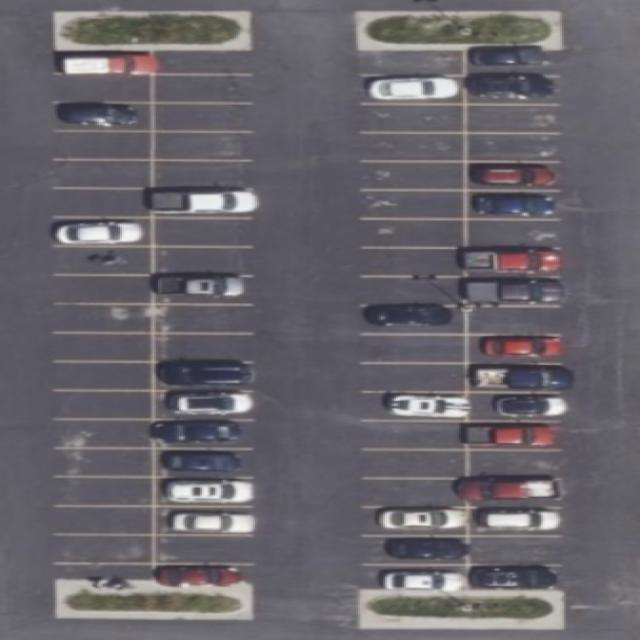Empty: (360, 217, 468, 247), (361, 419, 467, 449), (155, 534, 253, 566), (53, 332, 154, 363), (362, 362, 466, 392), (362, 333, 466, 363), (360, 276, 464, 306), (364, 189, 468, 219), (363, 246, 465, 276), (364, 160, 466, 190), (52, 73, 152, 103), (54, 189, 154, 219), (152, 218, 252, 248), (56, 275, 156, 305), (56, 477, 156, 507), (53, 362, 155, 391), (55, 303, 153, 333), (56, 534, 154, 564), (464, 305, 562, 335), (155, 331, 253, 361), (364, 479, 468, 507), (362, 48, 466, 76), (56, 419, 156, 448), (56, 130, 152, 160), (156, 160, 252, 190), (156, 305, 252, 335), (466, 536, 562, 566), (366, 450, 468, 478), (362, 132, 464, 160), (362, 104, 464, 132), (56, 392, 154, 421), (53, 246, 154, 274), (466, 133, 560, 163), (54, 160, 154, 188), (54, 450, 154, 478), (56, 506, 156, 534), (152, 246, 252, 274), (467, 104, 559, 134), (155, 74, 253, 102), (471, 449, 562, 478), (156, 104, 250, 132), (157, 132, 249, 160), (469, 220, 559, 248), (152, 50, 250, 74)
Parked: (153, 274, 254, 306), (359, 304, 466, 334), (48, 216, 152, 246), (362, 506, 466, 536), (362, 391, 466, 421), (362, 74, 466, 104), (152, 189, 255, 219), (153, 449, 254, 479), (155, 361, 255, 391), (155, 391, 255, 421), (156, 506, 256, 536), (362, 536, 468, 564), (466, 477, 560, 508), (50, 102, 154, 130), (466, 420, 562, 450), (154, 419, 253, 448), (466, 276, 560, 306), (154, 478, 253, 506), (468, 392, 560, 422), (468, 363, 560, 393), (468, 160, 560, 190), (363, 564, 469, 590), (466, 333, 560, 362), (464, 248, 560, 276), (466, 48, 562, 76), (471, 564, 565, 592), (466, 190, 560, 218), (466, 76, 560, 104), (468, 508, 560, 536), (54, 50, 154, 74), (154, 564, 253, 588)
